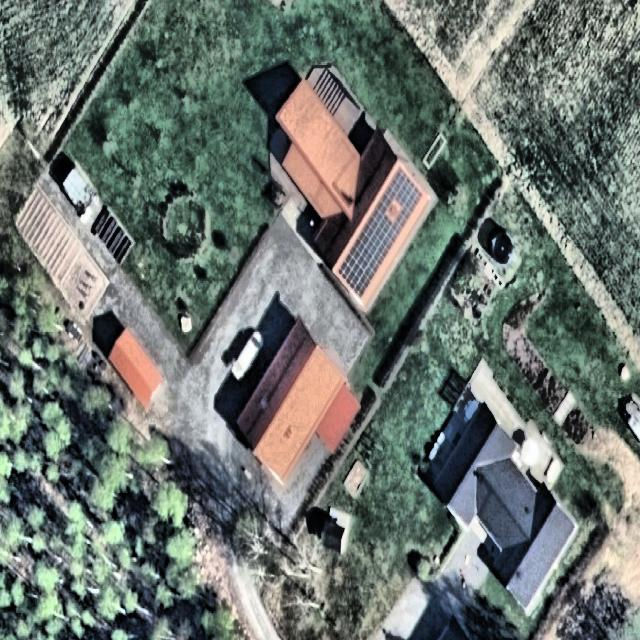roof_pv: (370, 168, 424, 268), (338, 224, 384, 298)
